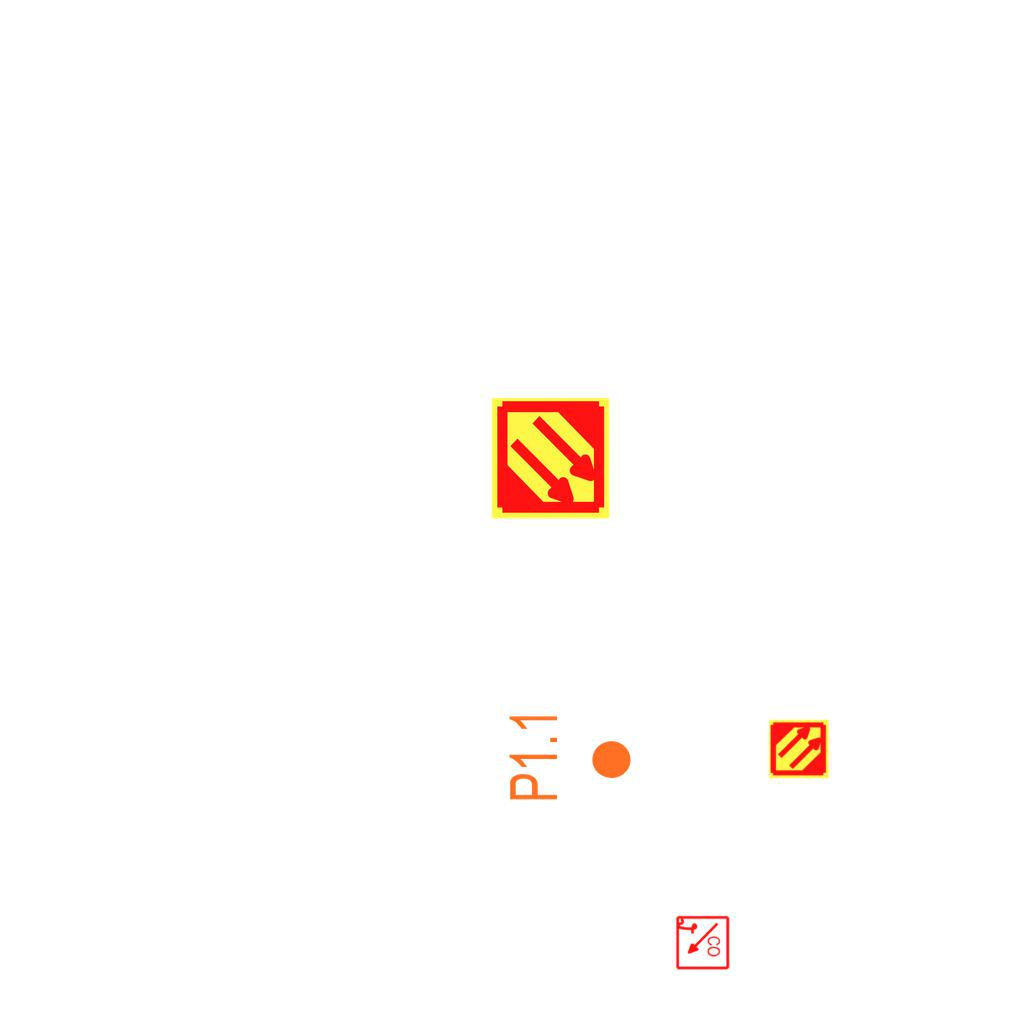ASR_Ansaugrauchmelder: (488, 396, 613, 521), (768, 718, 830, 780)
Downlight_LED_Einbauleuchten_Flur: (506, 710, 634, 803)
ROA_Rauchmelder_optisch_mit_Signalgeber_(Sockelsirene): (674, 915, 730, 971)
